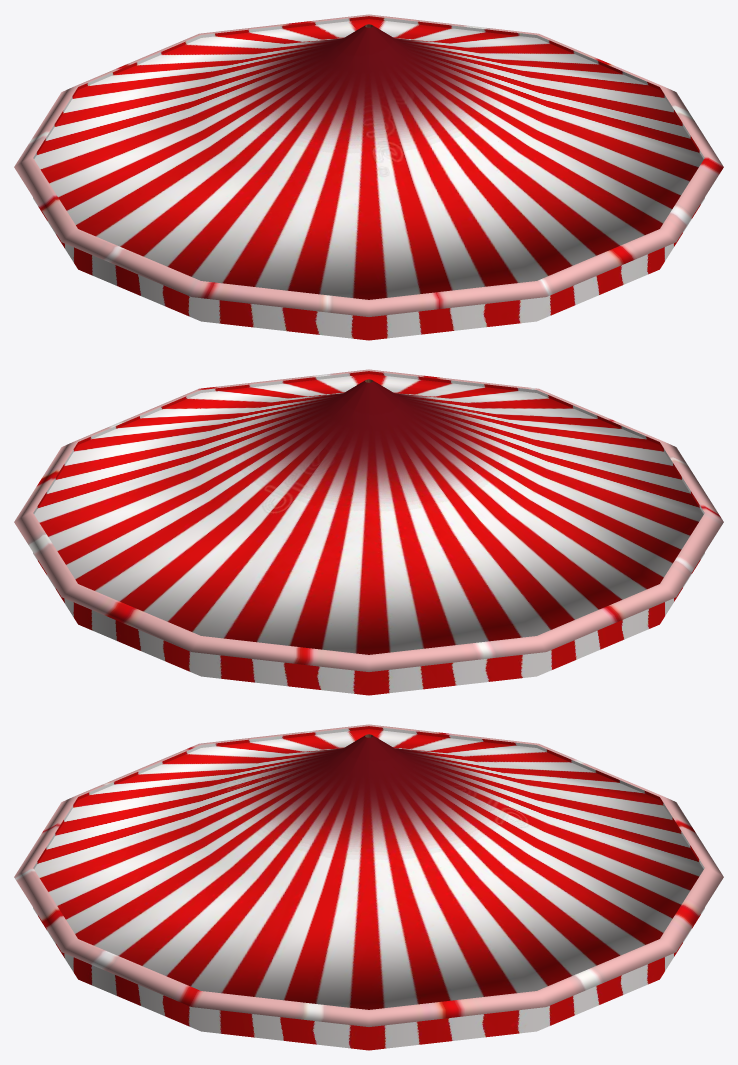
Rendered from Circus_test2.glb.
The picture shows the model from 3 angles, top to bottom: view 1: azimuth 30°, elevation 25°; view 2: azimuth 150°, elevation 25°; view 3: azimuth 270°, elevation 25°; orthographic projection.
Visible parts, largest first — view 1: Toit, Murs; view 2: Toit, Murs; view 3: Toit, Murs.
Part boxes in pixels (left/top/right/bottom): Toit: left=14, top=14, right=723, bottom=316; Murs: left=33, top=16, right=704, bottom=340; Toit: left=14, top=369, right=723, bottom=671; Murs: left=33, top=371, right=704, bottom=695; Toit: left=14, top=724, right=723, bottom=1026; Murs: left=33, top=726, right=704, bottom=1050.
Bounding box in the file's own units: 79.27 × 21.31 × 79.27.
4 materials, 4 textured.
